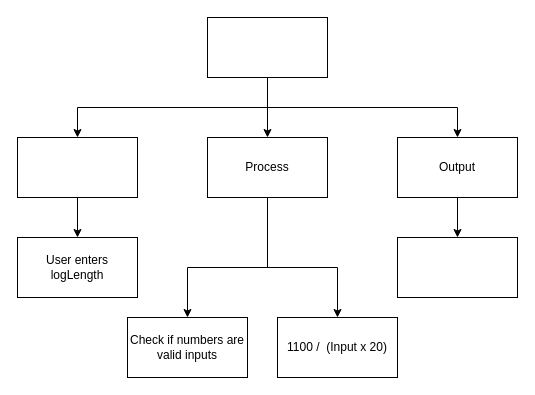
The diagram is 535 pixels wide and 395 high, and some of its shapes have lost their labels. The centre of each missing label's shape, as x and y in pixels:
Input: (x=77, y=167)
Log Program: (x=267, y=47)
Show the number of logs that can fit in the truck: (x=457, y=267)
